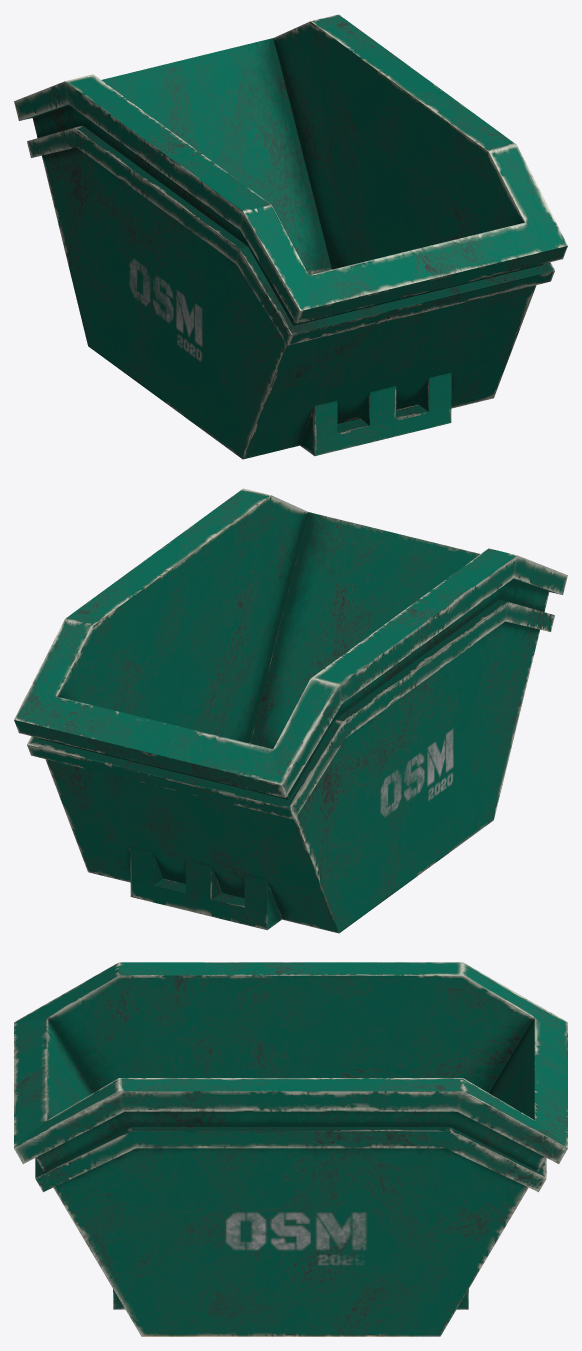
The model's file is Skip.fbx.
The picture shows the model from 3 angles, top to bottom: view 1: azimuth 30°, elevation 25°; view 2: azimuth 150°, elevation 25°; view 3: azimuth 270°, elevation 25°; orthographic projection. The views are drawn at different scales.
Parts seen in each view (by area): view 1: Cube.025; view 2: Cube.025; view 3: Cube.025.
Part boxes in pixels (x1=…): Cube.025: x1=14, y1=14, x2=567, y2=459; Cube.025: x1=14, y1=488, x2=567, y2=933; Cube.025: x1=14, y1=962, x2=567, y2=1336.
Size of the model in its own units: 115 by 104 by 208.
